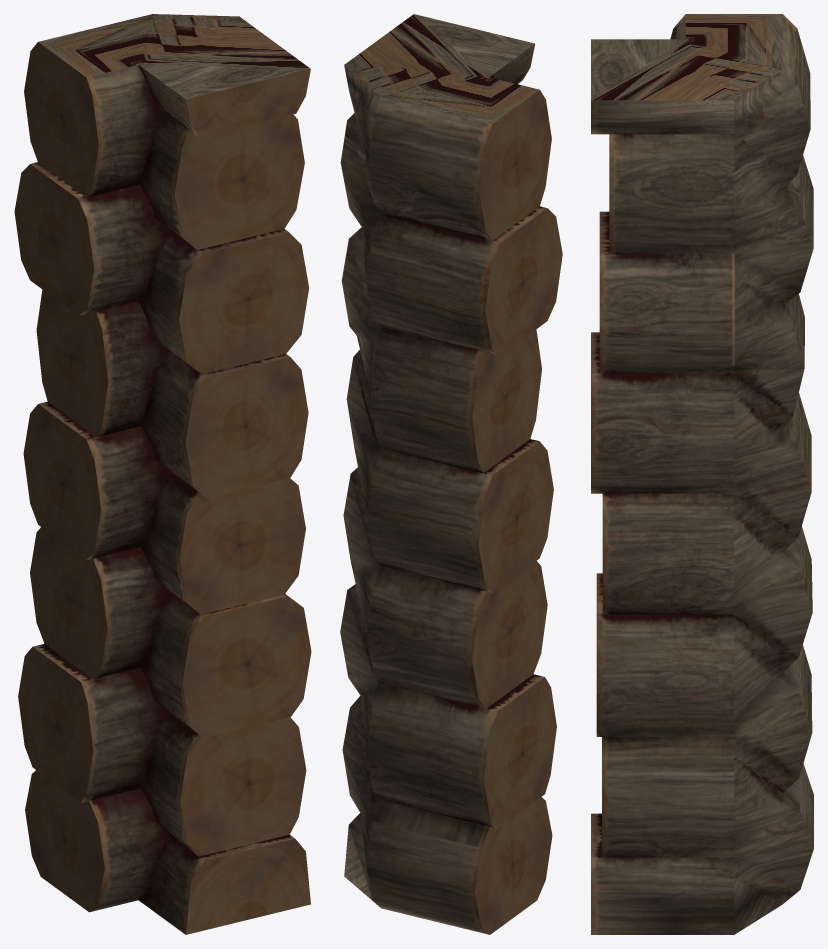
Rendered from Balk_Wall_Corner_01.fbx.
The picture shows the model from 3 angles, left to right: view 1: azimuth 30°, elevation 25°; view 2: azimuth 150°, elevation 25°; view 3: azimuth 270°, elevation 25°; orthographic projection. The views are drawn at different scales.
Visible parts, largest first — view 1: Balk_Wall_Corner_01_LOD0; view 2: Balk_Wall_Corner_01_LOD0; view 3: Balk_Wall_Corner_01_LOD0.
Part boxes in pixels (x1,y1,x2,y2): Balk_Wall_Corner_01_LOD0: (14, 14, 311, 934); Balk_Wall_Corner_01_LOD0: (340, 14, 562, 934); Balk_Wall_Corner_01_LOD0: (591, 14, 813, 934).
Size of what is drawn, in the model's own units: 47.4 by 200 by 48.41.
